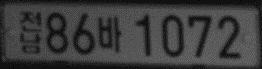0: (160, 14, 184, 57)
1: (133, 13, 157, 57)
2: (216, 14, 241, 59)
6: (72, 12, 96, 56)
7: (187, 14, 211, 57)
8: (45, 11, 69, 54)
바: (97, 15, 122, 53)
전남_V: (18, 10, 43, 54)
